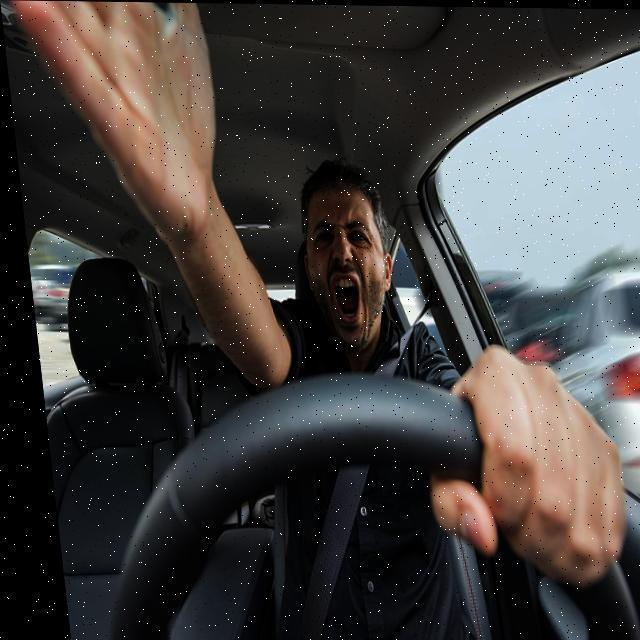seatbelt: (255, 423, 432, 640)
